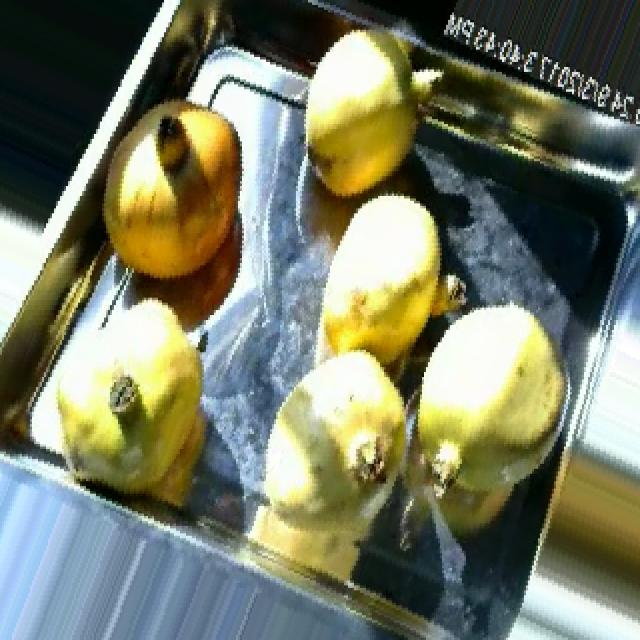fruit: (4, 273, 242, 531), (402, 270, 596, 521), (76, 72, 272, 310), (302, 171, 486, 380), (254, 328, 434, 524)
